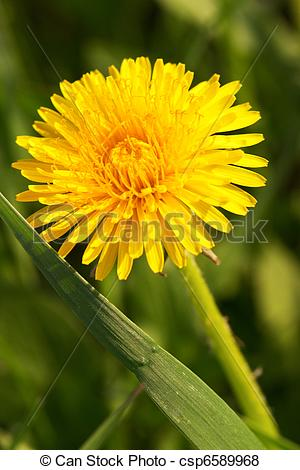dandelion: (33, 82, 246, 260)
